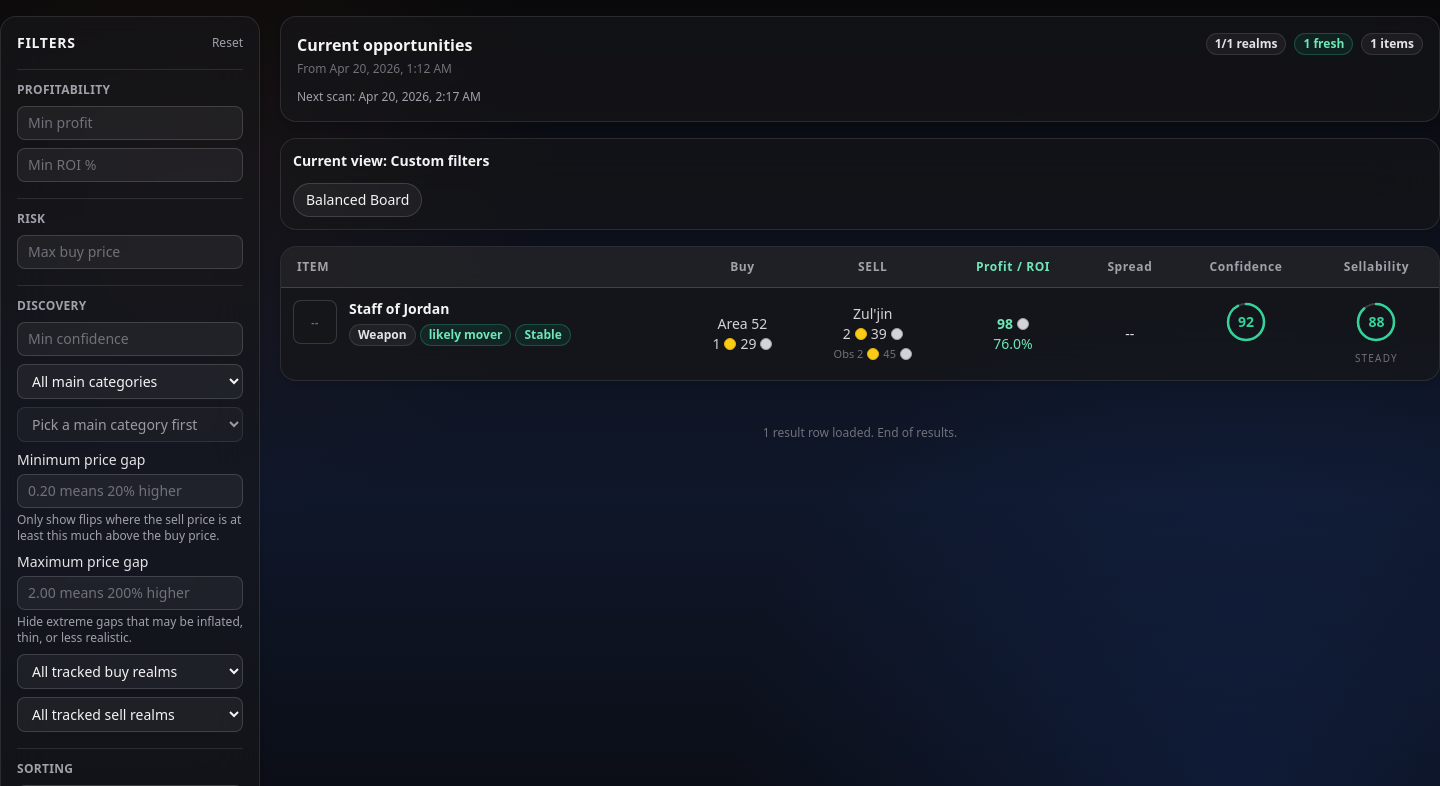
Scanner page › shows when a quick preset has been applied
Click the button "Balanced Board" at (358, 200), box [293,183,422,217]
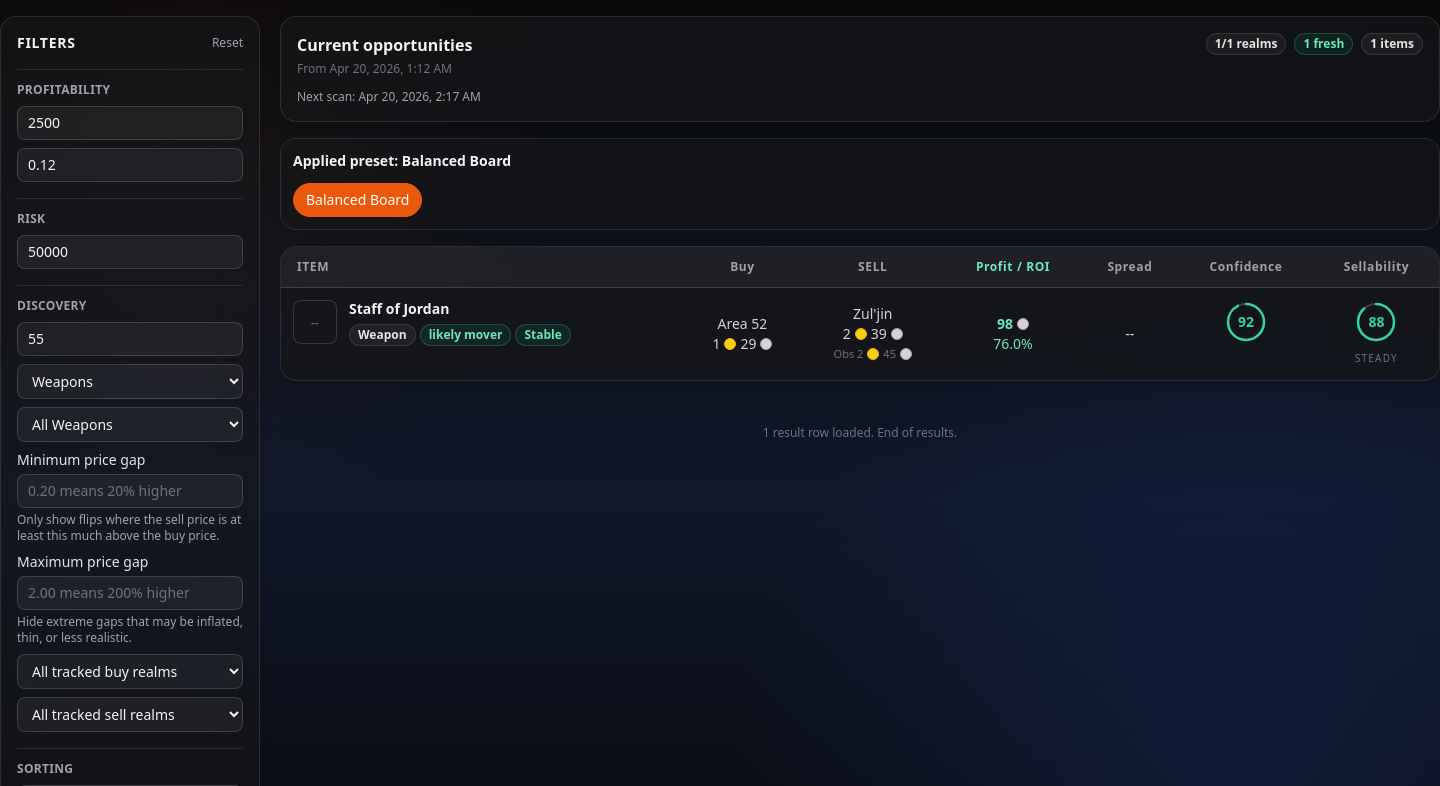
Expected: the text "Applied preset: Balanced Board" is shown, [293,151,511,171]
